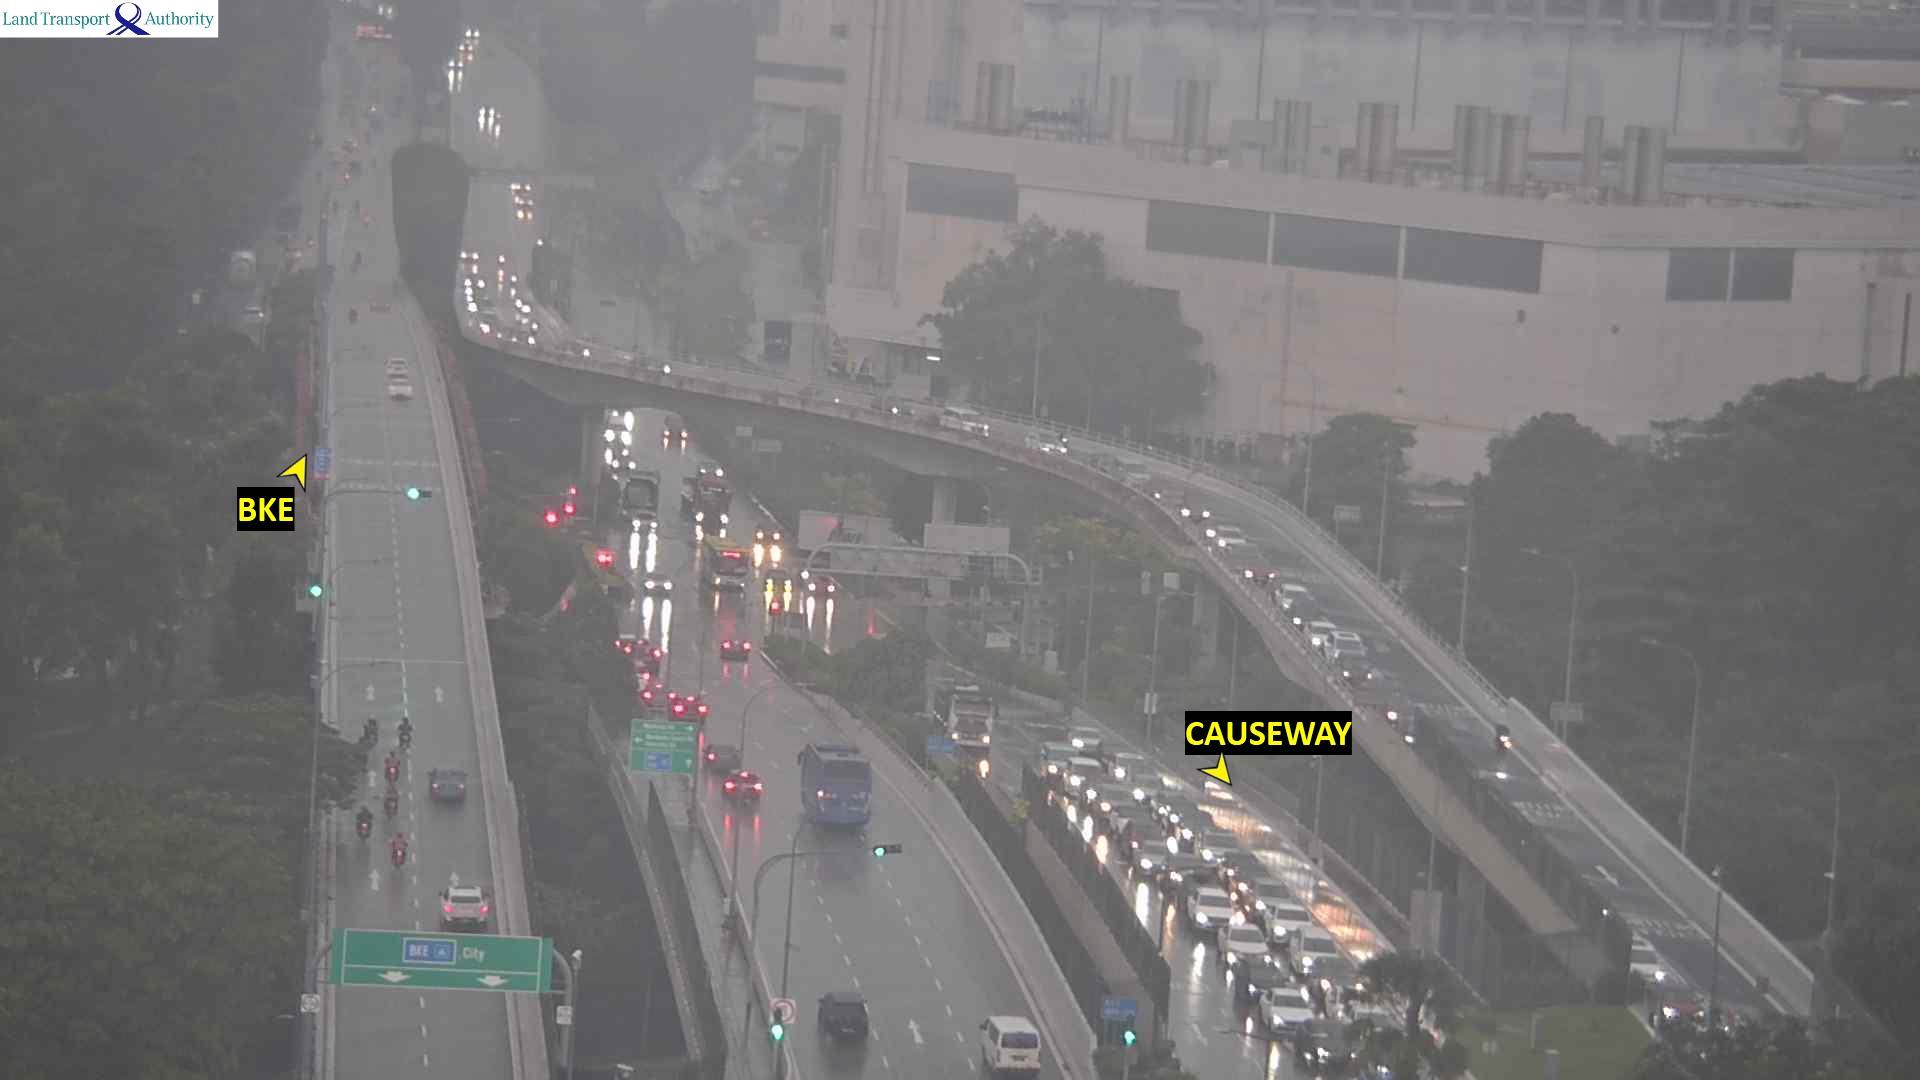vehicle-causeway-johor: (936, 677, 992, 750), (1617, 937, 1662, 989), (1298, 1019, 1350, 1063), (1651, 985, 1704, 1028), (1219, 924, 1268, 965), (1290, 930, 1336, 973), (1261, 990, 1309, 1030), (1234, 959, 1282, 998), (1169, 858, 1209, 903), (1190, 888, 1233, 928), (1250, 877, 1292, 916), (1267, 905, 1311, 942), (1040, 743, 1080, 782), (1139, 840, 1174, 876), (1062, 759, 1101, 790), (1124, 822, 1159, 856), (1065, 727, 1102, 758), (1241, 549, 1277, 580), (1178, 816, 1216, 845), (1095, 786, 1128, 819), (1196, 834, 1239, 859), (941, 415, 988, 436), (1112, 805, 1146, 834), (1113, 458, 1149, 484), (1218, 856, 1255, 881), (1343, 659, 1377, 685), (1322, 635, 1364, 656), (1302, 620, 1335, 645), (1111, 753, 1143, 778), (1274, 586, 1310, 607), (1159, 805, 1195, 826), (1143, 791, 1181, 809), (873, 398, 912, 414), (1130, 781, 1159, 800), (1199, 525, 1241, 538), (1049, 442, 1075, 459), (1038, 443, 1067, 458), (1149, 489, 1180, 503), (1176, 505, 1209, 518), (1495, 722, 1510, 749), (510, 180, 531, 193), (460, 248, 480, 261), (473, 106, 496, 117), (464, 277, 487, 287), (512, 337, 538, 345), (497, 269, 506, 284), (512, 198, 531, 205), (511, 271, 520, 285), (580, 347, 592, 357), (661, 362, 671, 374), (495, 251, 504, 262), (480, 321, 488, 333), (467, 303, 476, 312), (515, 297, 522, 307), (472, 266, 479, 275), (509, 288, 515, 297), (525, 304, 531, 313), (465, 290, 472, 297)
vehicle-causeway-singapore: (795, 743, 871, 822), (982, 1016, 1047, 1079), (818, 993, 868, 1045), (444, 890, 497, 934), (429, 768, 466, 803), (706, 743, 741, 770), (672, 700, 708, 720), (717, 639, 750, 658), (644, 686, 677, 705), (362, 713, 378, 749), (397, 717, 415, 749), (392, 831, 407, 868), (748, 771, 766, 801), (725, 770, 744, 798), (384, 357, 409, 377), (353, 805, 369, 833), (386, 753, 402, 779), (383, 789, 397, 816), (400, 381, 416, 403), (348, 305, 358, 321)
